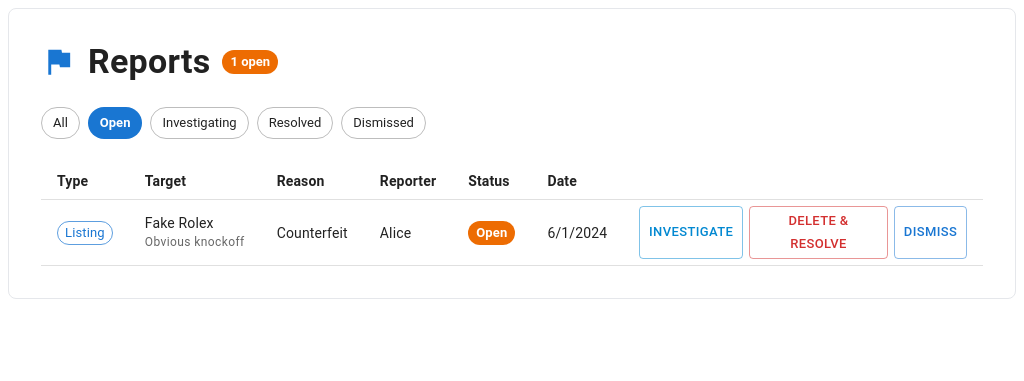
ReportsPage › shows a fallback error when investigate rejects with a non-Error
The image size is (1024, 381).
expect the text "Fake Rolex" is shown: met, box [145,215,214,231]
Click the button "Investigate": (691, 233) [639,206,743,260]
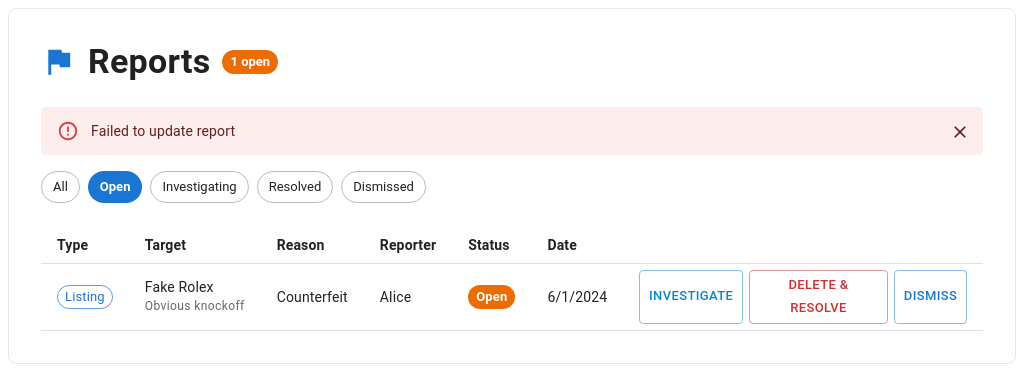
expect the text "Failed to update report" is shown: met, box [91,123,235,139]
